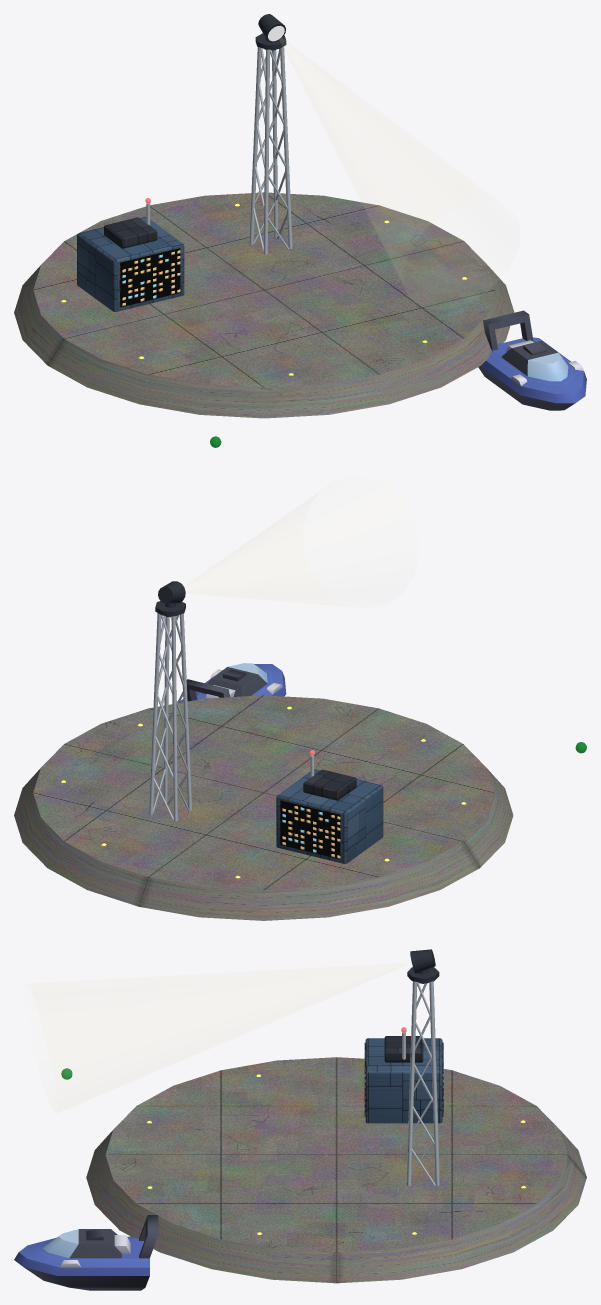
Rendered from customs-T2.glb.
The picture shows the model from 3 angles, top to bottom: view 1: azimuth 30°, elevation 25°; view 2: azimuth 150°, elevation 25°; view 3: azimuth 270°, elevation 25°; orthographic projection.
Visible parts, largest first — view 1: object 1, boat-speed-a, object 11, object 12, object 14; view 2: object 1, object 11, object 13, boat-speed-a, object 14; view 3: object 1, boat-speed-a, object 11, object 14, anim:sweep.
Boxes of the visible parts, bbox=[...] form: object 1: bbox=[14, 192, 514, 418]; boat-speed-a: bbox=[478, 310, 586, 410]; object 11: bbox=[77, 217, 184, 311]; object 12: bbox=[119, 248, 180, 307]; object 14: bbox=[104, 217, 157, 248]; object 1: bbox=[14, 695, 513, 920]; object 11: bbox=[276, 769, 383, 863]; object 13: bbox=[280, 800, 340, 859]; boat-speed-a: bbox=[179, 663, 286, 702]; object 14: bbox=[303, 769, 356, 800]; object 1: bbox=[86, 1057, 586, 1283]; boat-speed-a: bbox=[14, 1215, 158, 1290]; object 11: bbox=[365, 1038, 442, 1123]; object 14: bbox=[384, 1036, 423, 1062]; anim:sweep: bbox=[410, 949, 435, 973].
Bounding box in the file's own units: 5.2 × 3.26 × 5.95.
14 materials, 6 textured.
